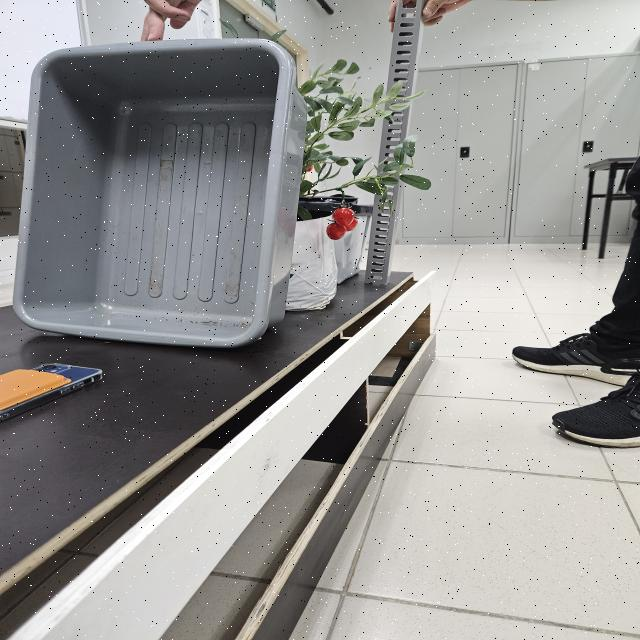Obstacle: (12, 38, 304, 350), (365, 0, 422, 287)
Soilbag: (286, 215, 338, 311), (333, 214, 369, 284)
Tomato: (326, 208, 358, 241)
plant: (298, 59, 432, 241)
